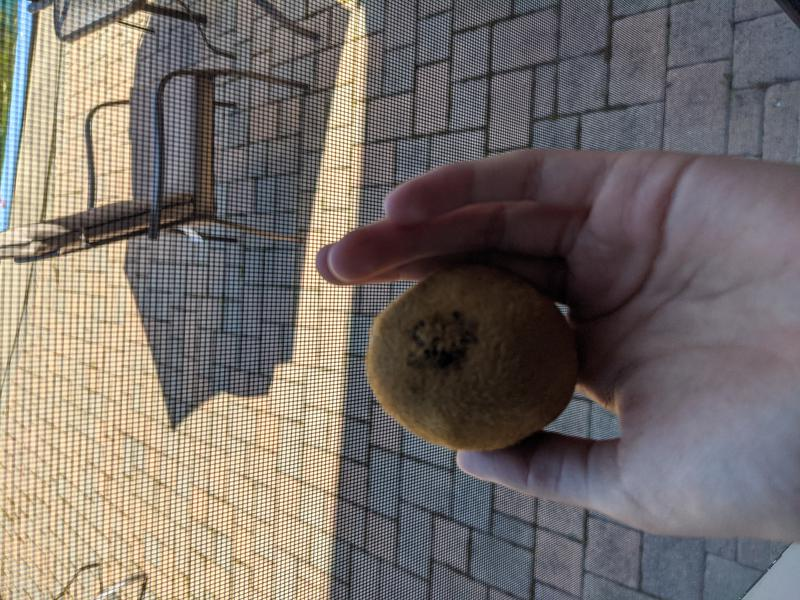kiwi: (365, 263, 583, 452)
